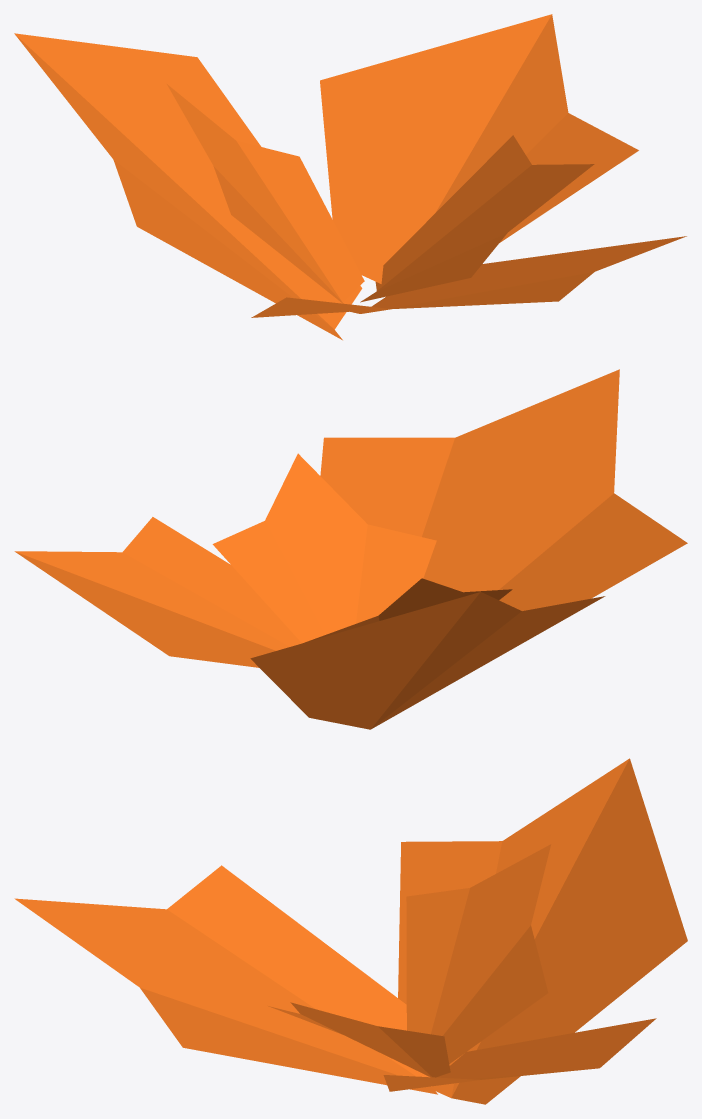
Rendered from scifi_scifi-plant-leaf-small.fbx.
3 views of the same model, one above another, from view 1: azimuth 30°, elevation 25°; view 2: azimuth 150°, elevation 25°; view 3: azimuth 270°, elevation 25° (orthographic). The views are drawn at different scales.
Parts seen in each view (by area): view 1: scifi_scifi_plant_leaf_small; view 2: scifi_scifi_plant_leaf_small; view 3: scifi_scifi_plant_leaf_small.
Boxes of the visible parts, bbox=[...] form: scifi_scifi_plant_leaf_small: bbox=[14, 14, 686, 340]; scifi_scifi_plant_leaf_small: bbox=[14, 369, 687, 729]; scifi_scifi_plant_leaf_small: bbox=[14, 758, 687, 1104].
Size of the model in its own units: 160 by 80.18 by 200.
